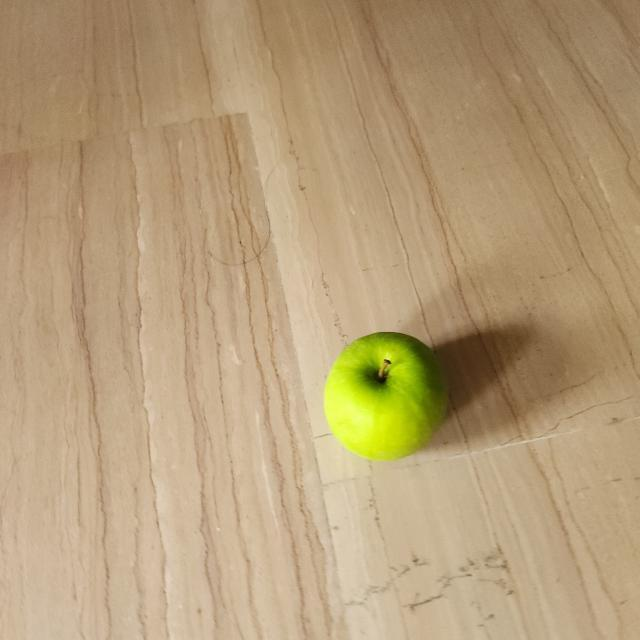apple: (321, 323, 452, 475)
